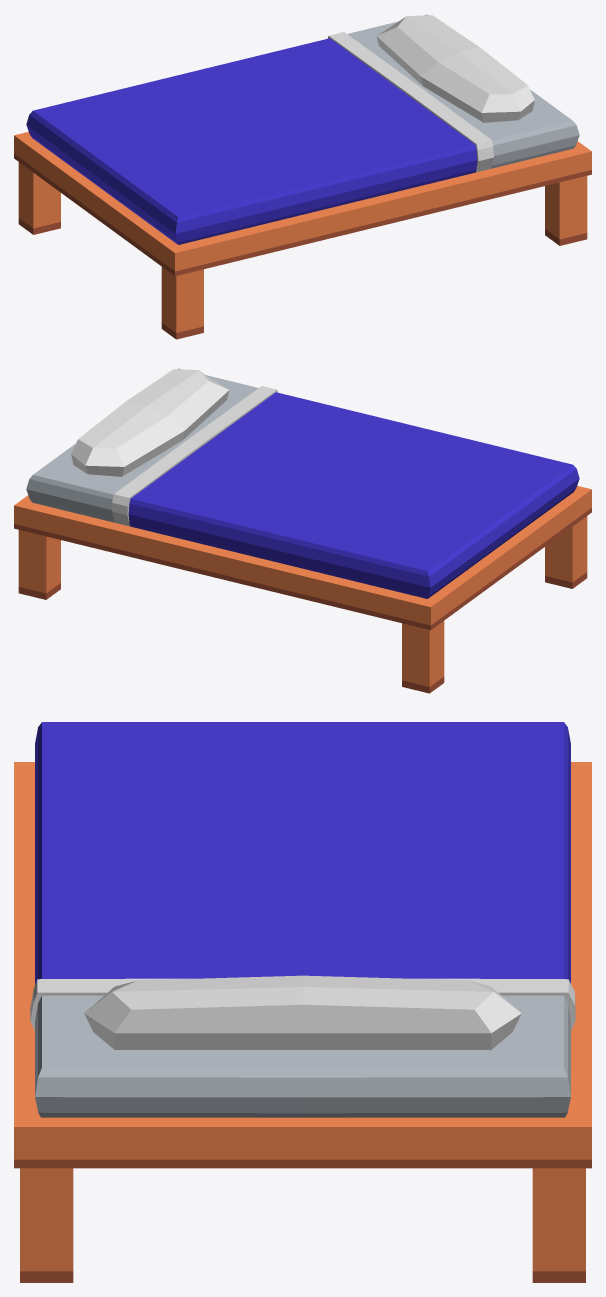
Rendered from Cama.fbx.
3 renders of one model, top to bottom at view 1: azimuth 30°, elevation 25°; view 2: azimuth 150°, elevation 25°; view 3: azimuth 270°, elevation 25°, orthographic. The views are drawn at different scales.
Parts seen in each view (by area): view 1: Cama; view 2: Cama; view 3: Cama.
Part boxes in pixels (x1=…): Cama: x1=14, y1=14, x2=591, y2=339; Cama: x1=14, y1=368, x2=591, y2=693; Cama: x1=14, y1=722, x2=591, y2=1282.
Size of the model in its own units: 900 by 291 by 603.
